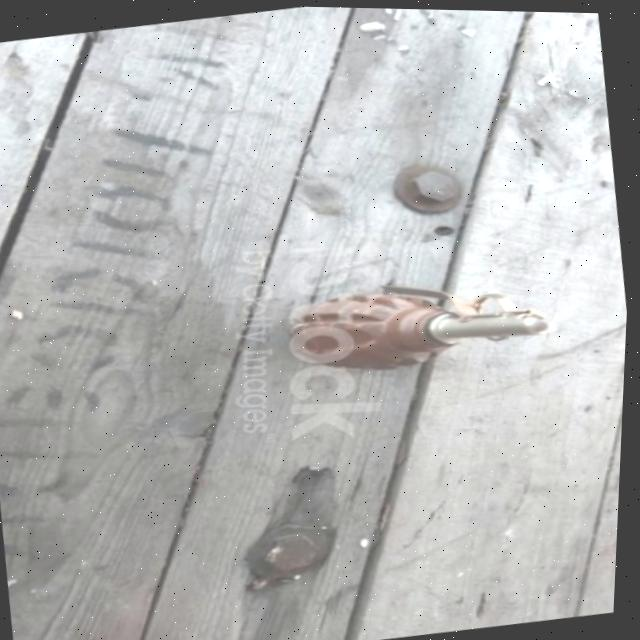grenade: (284, 248, 581, 400)
